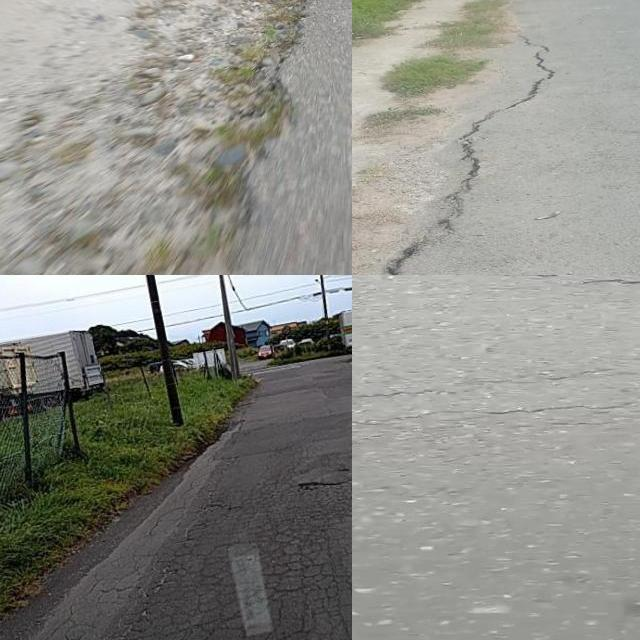Memanjang: (369, 26, 567, 275)
Pinggir: (157, 0, 332, 275)
Retak Buaya: (115, 445, 352, 640)
